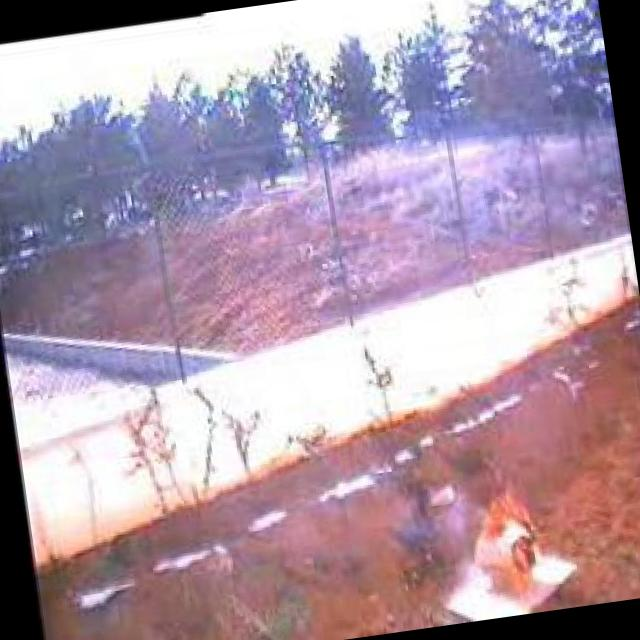Fire: (462, 471, 548, 606)
